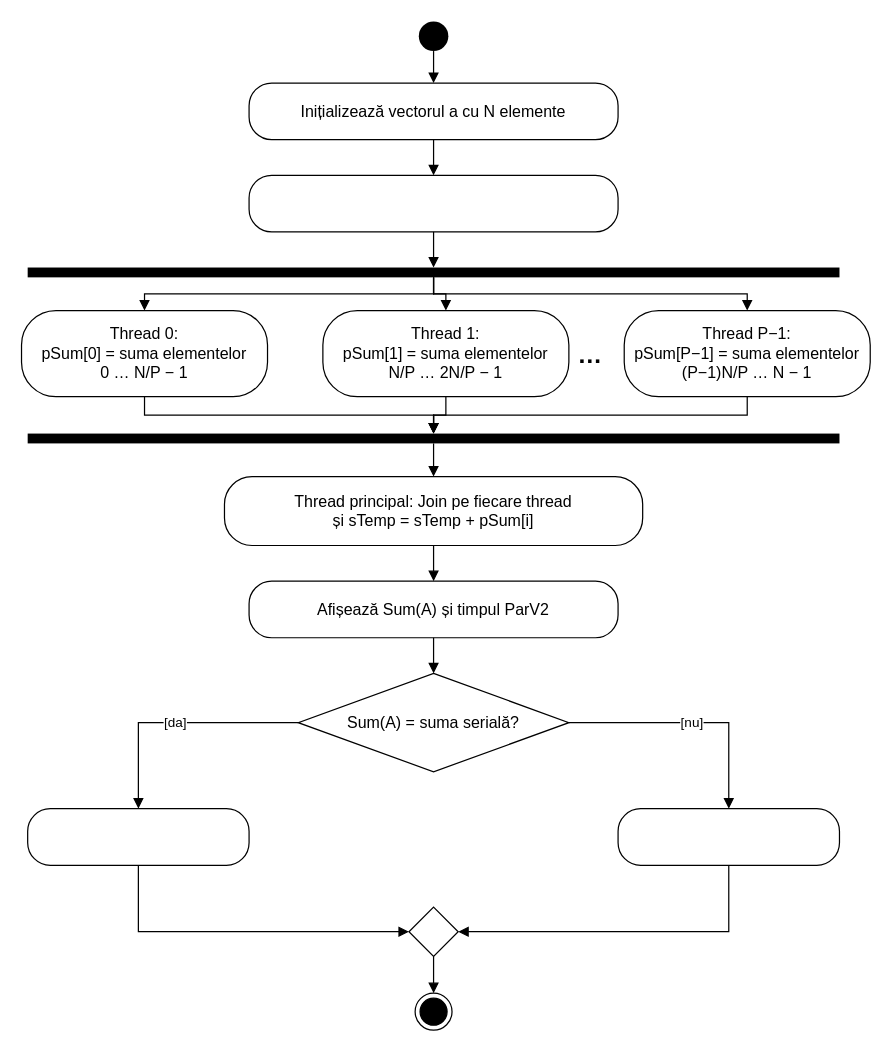
This 892x1052 diagram has some shape labels left out. Each missing label, with the centre of its shape:
Creează P threaduri și vectorul pSum[P]: the point at 433,203
Rezultat corect: the point at 137,836
Rezultat greșit: the point at 728,836
